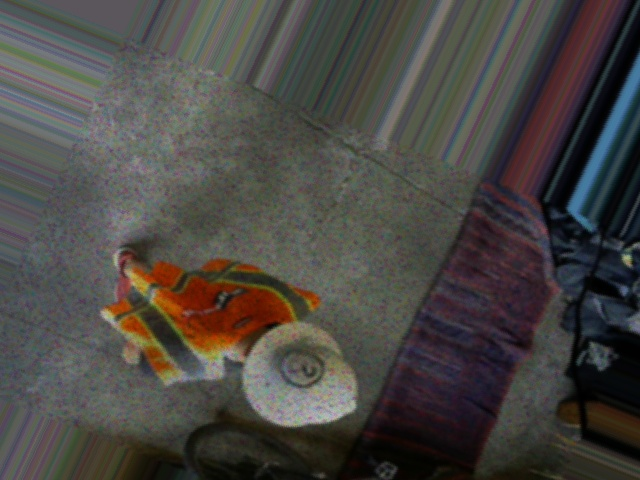three: (273, 344, 329, 393)
